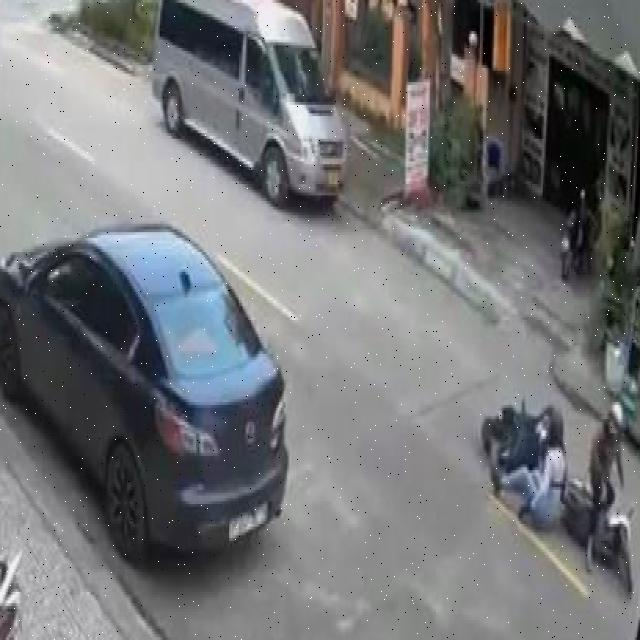accident: (477, 368, 640, 612)
